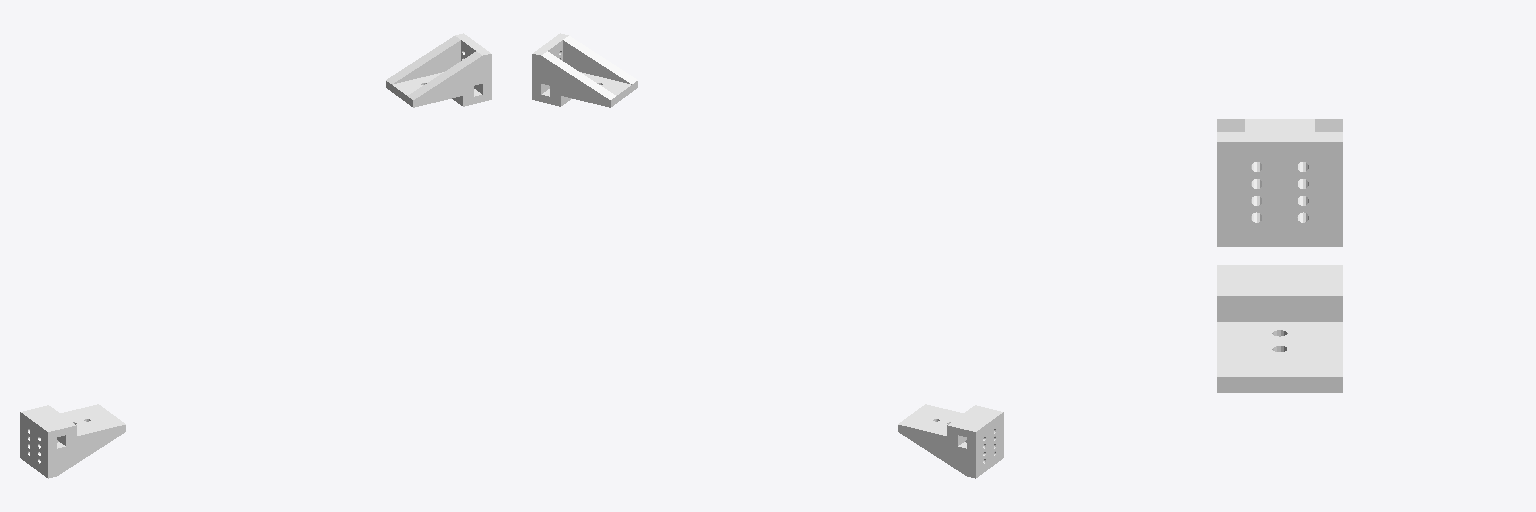
robot.urdf — ur5:
<?xml version="1.0" ?>
<!-- =================================================================================== -->
<!-- |    This document was autogenerated by xacro from ur5_robot.urdf.xacro           | -->
<!-- |    EDITING THIS FILE BY HAND IS NOT RECOMMENDED                                 | -->
<!-- =================================================================================== -->
<robot name="ur5" xmlns:xacro="http://ros.org/wiki/xacro">
  <!-- measured from model -->
  <!--property name="shoulder_height" value="0.089159" /-->
  <!--property name="shoulder_offset" value="0.13585" /-->
  <!-- shoulder_offset - elbow_offset + wrist_1_length = 0.10915 -->
  <!--property name="upper_arm_length" value="0.42500" /-->
  <!--property name="elbow_offset" value="0.1197" /-->
  <!-- CAD measured -->
  <!--property name="forearm_length" value="0.39225" /-->
  <!--property name="wrist_1_length" value="0.093" /-->
  <!-- CAD measured -->
  <!--property name="wrist_2_length" value="0.09465" /-->
  <!-- In CAD this distance is 0.930, but in the spec it is 0.09465 -->
  <!--property name="wrist_3_length" value="0.0823" /-->
  <!-- manually measured -->
  <!-- Arm Links -->
  <link name="base_link">
    <visual name="base_link_visual">
      <geometry>
        <mesh filename="meshes/ur5/visual/base.dae"/>
      </geometry>
    </visual>
    <collision name="base_link_collision">
      <geometry>
        <mesh filename="meshes/ur5/collision/base.stl"/>
      </geometry>
    </collision>
  </link>

  <link name="shoulder_link">
    <visual name="shoulder_link_visual">
      <geometry>
        <mesh filename="meshes/ur5/visual/shoulder.dae"/>
      </geometry>
    </visual>
    <collision name="shoulder_link_collision">
      <geometry>
        <mesh filename="meshes/ur5/collision/shoulder.stl"/>
      </geometry>
    </collision>
  </link>

  <link name="upper_arm_link">
    <visual name="upper_arm_link_visual">
      <geometry>
        <mesh filename="meshes/ur5/visual/upperarm.dae"/>
      </geometry>
    </visual>
    <collision name="upper_arm_link_collision">
      <geometry>
        <mesh filename="meshes/ur5/collision/upperarm.stl"/>
      </geometry>
    </collision>
  </link>

  <link name="forearm_link">
    <visual name="forearm_link_visual">
      <geometry>
        <mesh filename="meshes/ur5/visual/forearm.dae"/>
      </geometry>
    </visual>
    <collision name="forearm_link_collision">
      <geometry>
        <mesh filename="meshes/ur5/collision/forearm.stl"/>
      </geometry>
    </collision>
  </link>

  <link name="wrist_1_link">
    <visual name="wrist_1_link_visual">
      <geometry>
        <mesh filename="meshes/ur5/visual/wrist1.dae"/>
      </geometry>
    </visual>
    <collision name="wrist_1_link_collision">
      <geometry>
        <mesh filename="meshes/ur5/collision/wrist1.stl"/>
      </geometry>
    </collision>
  </link>

  <link name="wrist_2_link">
    <visual name="wrist_2_link_visual">
      <geometry>
        <mesh filename="meshes/ur5/visual/wrist2.dae"/>
      </geometry>
    </visual>
    <collision name="wrist_2_link_collision">
      <geometry>
        <mesh filename="meshes/ur5/collision/wrist2.stl"/>
      </geometry>
    </collision>
  </link>

  <link name="wrist_3_link">
    <visual name="wrist_3_link_visual">
      <geometry>
        <mesh filename="meshes/ur5/visual/wrist3.dae"/>
      </geometry>
    </visual>
    <collision name="wrist_3_link_collision">
      <geometry>
        <mesh filename="meshes/ur5/collision/wrist3.stl"/>
      </geometry>
    </collision>
  </link>


  <!-- Arm Joints -->
  <joint name="shoulder_pan_joint" type="revolute">
    <parent link="base_link"/>
    <child link="shoulder_link"/>
    <origin xyz="0 0 0.089159" rpy="0 0 0"/>
    <axis xyz="0 0 1"/>
    <limit lower="-6.28319" upper="6.28319" effort="150.0" velocity="3.15"/>
  </joint>

  <joint name="shoulder_lift_joint" type="revolute">
    <parent link="shoulder_link"/>
    <child link="upper_arm_link"/>
    <origin xyz="0 0.13585 0" rpy="0 0 0"/>
    <axis xyz="0 1 0"/>
    <limit lower="-6.28319" upper="6.28319" effort="150.0" velocity="3.15"/>
  </joint>

  <joint name="elbow_joint" type="revolute">
    <parent link="upper_arm_link"/>
    <child link="forearm_link"/>
    <origin xyz="0 -0.1197 0.425" rpy="0 0 0"/>
    <axis xyz="0 1 0"/>
    <limit lower="-6.28319" upper="6.28319" effort="150.0" velocity="3.15"/>
  </joint>

  <joint name="wrist_1_joint" type="revolute">
    <parent link="forearm_link"/>
    <child link="wrist_1_link"/>
    <origin xyz="0 0 0.39225" rpy="0 0 0"/>
    <axis xyz="0 1 0"/>
    <limit lower="-6.28319" upper="6.28319" effort="28.0" velocity="3.2"/>
  </joint>

  <joint name="wrist_2_joint" type="revolute">
    <parent link="wrist_1_link"/>
    <child link="wrist_2_link"/>
    <origin xyz="0 0.093 0" rpy="0 0 0"/>
    <axis xyz="0 0 1"/>
    <limit lower="-6.28319" upper="6.28319" effort="28.0" velocity="3.2"/>
  </joint>

  <joint name="wrist_3_joint" type="revolute">
    <parent link="wrist_2_link"/>
    <child link="wrist_3_link"/>
    <origin xyz="0 0 0.09465" rpy="0 0 0"/>
    <axis xyz="0 1 0"/>
    <limit lower="-6.28319" upper="6.28319" effort="28.0" velocity="3.2"/>
  </joint>


  <!-- Arm-Hand Fixed Joint -->

  <joint name="ee_fixed_joint" type="fixed"> 
    <parent link="wrist_3_link"/>
    <child link="ee_link"/>
    <axis xyz="0 0 1"/>
    <origin rpy="0 0 3.141592653589793" xyz="0.0 0.0823 0.0"/> 
  </joint>

  <link name="ee_link">
    <inertial>
      <origin xyz="8.625E-08 -4.6583E-06 0.03145" rpy="0 0 0" />
      <mass value="0.22652" />
      <inertia ixx="0.00020005" ixy="-4.2442E-10" ixz="-2.9069E-10" iyy="0.00017832" iyz="-3.4402E-08" izz="0.00013478" />
    </inertial>
    <visual>
      <origin xyz="0 0 0" rpy="0 0 0" />
      <geometry>
        <mesh filename="meshes/robotiq_2f_140/visual/robotiq_arg2f_base_link.stl" />
      </geometry>
      <material name="">
        <color rgba="0.9 0.1 0.1 1" />
      </material>
    </visual>
    <collision>
      <origin xyz="0.0 0.0 0.0" rpy="1.57079632678995 0 0" />
      <geometry>
        <mesh filename="meshes/robotiq_2f_140/collision/robotiq_arg2f_base_link.stl" />
      </geometry>
    </collision>
  </link>

  <link name="left_inner_knuckle">
    <inertial>
      <origin xyz="0.000123011831763771 0.0507850843201817 0.00103968640075166" rpy="0 0 0" />
      <mass value="0.0271177346495152" />
      <inertia
          ixx="2.61910379223783E-05"
          ixy="-2.43616858946494E-07"
          ixz="-6.37789906117123E-09"
          iyy="2.8270243746167E-06"
          iyz="-5.37200748039765E-07"
          izz="2.83695868220296E-05" />
    </inertial>
    <visual>
      <origin xyz="0 0 0" rpy="0 0 0" />
      <geometry>
        <mesh filename="meshes/robotiq_2f_140/visual/robotiq_arg2f_140_inner_knuckle.stl" />
      </geometry>
      <material name="">
        <color rgba="0.1 0.1 0.1 1" />
      </material>
    </visual>
    <collision>
      <origin xyz="0 0 -0.025" rpy="1.57079632678995 0 0" />
      <geometry>
        <mesh filename="meshes/robotiq_2f_140/collision/robotiq_arg2f_140_inner_knuckle.stl" />
      </geometry>
    </collision>
  </link> 

  <link name="right_inner_knuckle">
    <inertial>
      <origin xyz="0.000123011831763771 0.0507850843201817 0.00103968640075166" rpy="0 0 0" />
      <mass value="0.0271177346495152" />
      <inertia
          ixx="2.61910379223783E-05"
          ixy="-2.43616858946494E-07"
          ixz="-6.37789906117123E-09"
          iyy="2.8270243746167E-06"
          iyz="-5.37200748039765E-07"
          izz="2.83695868220296E-05" />
    </inertial>
    <visual>
      <origin xyz="0 0 0" rpy="0 0 0" />
      <geometry>
        <mesh filename="meshes/robotiq_2f_140/visual/robotiq_arg2f_140_inner_knuckle.stl" />
      </geometry>
      <material name="">
        <color rgba="0.1 0.1 0.1 1" />
      </material>
    </visual>
    <collision>
      <origin xyz="0 0 -0.025" rpy="1.57079632678995 0 0" />
      <geometry>
        <mesh filename="meshes/robotiq_2f_140/collision/robotiq_arg2f_140_inner_knuckle.stl" />
      </geometry>
    </collision>
  </link>

  <joint name="left_inner_knuckle_joint" type="revolute">
    <origin xyz="0 -0.06142 -0.0127" rpy="2.2957963267948965 0 0" />
    <parent link="ee_link" />
    <child link="left_inner_knuckle" />
    <axis xyz="1 0 0" />
    <limit lower="-0.5757" upper="0.5757" velocity="2.0" effort="1000" />
    <mimic joint="finger_joint" multiplier="-1" offset="0" />
  </joint>

  <joint name="right_inner_knuckle_joint" type="revolute">
    <origin xyz="0 -0.06142 0.0127" rpy="-2.2957963267948965 3.141592653589793 -3.141592653589793" />
    <parent link="ee_link" />
    <child link="right_inner_knuckle" />
    <axis xyz="1 0 0" />
    <limit lower="-0.5757" upper="0.5757" velocity="2.0" effort="1000" />
    <mimic joint="finger_joint" multiplier="1" offset="0" />
  </joint> 

  <link name="left_outer_knuckle">
    <inertial>
      <origin xyz="-0.000200000000003065 0.0199435877845359 0.0292245259211331" rpy="0 0 0" />
      <mass value="0.00853198276973456" />
      <inertia
          ixx="2.89328108496468E-06"
          ixy="-1.57935047237397E-19"
          ixz="-1.93980378593255E-19"
          iyy="1.86719750325683E-06"
          iyz="-1.21858577871576E-06"
          izz="1.21905238907251E-06" />
    </inertial>
    <visual>
      <origin xyz="0 0 0" rpy="0 0 0" />
      <geometry>
        <mesh filename="meshes/robotiq_2f_140/visual/robotiq_arg2f_140_outer_knuckle.stl" />
      </geometry>
      <material name="">
        <color rgba="0.792156862745098 0.819607843137255 0.933333333333333 1" />
      </material>
    </visual>
    <collision>
      <origin xyz="0 0 0" rpy="1.57079632678995 0 0" />
      <geometry>
        <mesh filename="meshes/robotiq_2f_140/collision/robotiq_arg2f_140_outer_knuckle.stl" />
      </geometry>
    </collision>
  </link>

  <link name="right_outer_knuckle">
    <inertial>
      <origin xyz="-0.000200000000003065 0.0199435877845359 0.0292245259211331" rpy="0 0 0" />
      <mass value="0.00853198276973456" />
      <inertia
          ixx="2.89328108496468E-06"
          ixy="-1.57935047237397E-19"
          ixz="-1.93980378593255E-19"
          iyy="1.86719750325683E-06"
          iyz="-1.21858577871576E-06"
          izz="1.21905238907251E-06" />
    </inertial>
    <visual>
      <origin xyz="0 0 0" rpy="0 0 0" />
      <geometry>
        <mesh filename="meshes/robotiq_2f_140/visual/robotiq_arg2f_140_outer_knuckle.stl" />
      </geometry>
      <material name="">
        <color rgba="0.792156862745098 0.819607843137255 0.933333333333333 1" />
      </material>
    </visual>
    <collision>
      <origin xyz="0 0 0" rpy="1.57079632678995 0 0" />
      <geometry>
        <mesh filename="meshes/robotiq_2f_140/collision/robotiq_arg2f_140_outer_knuckle.stl" />
      </geometry>
    </collision>
  </link>

  <joint name="finger_joint" type="revolute">
    <origin xyz="0 -0.054905 -0.030601" rpy="2.2957963267948965 0 0" />
    <parent link="ee_link" />
    <child link="left_outer_knuckle" />
    <axis xyz="-1 0 0" />
    <limit lower="-0.725" upper="0.725" velocity="2.0" effort="1000" />
  </joint>

  <joint name="right_outer_knuckle_joint" type="revolute">
    <origin xyz="0 -0.054905 0.030601" rpy="-0.8457 0 -3.141592653589793" />
    <parent link="ee_link" />
    <child link="right_outer_knuckle" />
    <axis xyz="1 0 0" />
    <limit lower="-0.725" upper="0.725" velocity="2.0" effort="1000" />
    <mimic joint="finger_joint" multiplier="-1" offset="0" />
  </joint>

  <link name="left_outer_finger">
    <inertial>
      <origin xyz="0.00030115855001899 0.0373907951953854 -0.0208027427000385" rpy="0 0 0" />
      <mass value="0.022614240507152" />
      <inertia
          ixx="1.52518312458174E-05"
          ixy="9.76583423954399E-10"
          ixz="-5.43838577022588E-10"
          iyy="6.17694243867776E-06"
          iyz="6.78636130740228E-06"
          izz="1.16494917907219E-05" />
    </inertial>
    <visual>
      <origin xyz="0 0 0" rpy="0 0 0" />
      <geometry>
        <mesh filename="meshes/robotiq_2f_140/visual/robotiq_arg2f_140_outer_finger.stl" />
      </geometry>
      <material name="">
        <color rgba="0.1 0.1 0.1 1" />
      </material>
    </visual>
    <collision>
      <origin xyz="0 0 0" rpy="1.57079632678995 0 0" />
      <geometry>
        <mesh filename="meshes/robotiq_2f_140/collision/robotiq_arg2f_140_outer_finger.stl" />
      </geometry>
    </collision>
  </link>

  <link name="right_outer_finger">
    <inertial>
      <origin xyz="0.00030115855001899 0.0373907951953854 -0.0208027427000385" rpy="0 0 0" />
      <mass value="0.022614240507152" />
      <inertia
          ixx="1.52518312458174E-05"
          ixy="9.76583423954399E-10"
          ixz="-5.43838577022588E-10"
          iyy="6.17694243867776E-06"
          iyz="6.78636130740228E-06"
          izz="1.16494917907219E-05" />
    </inertial>
    <visual>
      <origin xyz="0 0 0" rpy="0 0 0" />
      <geometry>
        <mesh filename="meshes/robotiq_2f_140/visual/robotiq_arg2f_140_outer_finger.stl" />
      </geometry>
      <material name="">
        <color rgba="0.1 0.1 0.1 1" />
      </material>
    </visual>
    <collision>
      <origin xyz="0 0 0" rpy="1.57079632678995 0 0" />
      <geometry>
        <mesh filename="meshes/robotiq_2f_140/collision/robotiq_arg2f_140_outer_finger.stl" />
      </geometry>
    </collision>
  </link>

  <joint name="left_outer_finger_joint" type="fixed">
    <origin xyz="0 -0.0260018192872234 0.01821998610742" rpy="0 0 0" />
    <parent link="left_outer_knuckle" />
    <child link="left_outer_finger" />
    <axis xyz="1 0 0" />
  </joint>

  <joint name="right_outer_finger_joint" type="fixed">
    <origin xyz="0 -0.0260018192872234 0.01821998610742" rpy="0 0 0" />
    <parent link="right_outer_knuckle" />
    <child link="right_outer_finger" />
    <axis xyz="1 0 0" />
  </joint>

  <link name="left_inner_finger">
    <inertial>
      <origin xyz="0.000299999999999317 0.0160078233491243 -0.0136945669206257" rpy="0 0 0" />
      <mass value="0.0104003125914103" />
      <inertia
          ixx="2.71909453810972E-06"
          ixy="1.35402465472579E-21"
          ixz="-7.1817349065269E-22"
          iyy="7.69100314106116E-07"
          iyz="6.74715432769696E-07"
          izz="2.30315190420171E-06" />
    </inertial>
    <visual>
      <origin xyz="0 0 0" rpy="0 0 0" />
      <geometry>
        <mesh filename="meshes/robotiq_2f_140/visual/robotiq_arg2f_140_inner_finger.stl" />
      </geometry>
      <material name="">
        <color rgba="0.1 0.1 0.1 1" />
      </material>
    </visual>
    <collision>
      <origin xyz="0 0 0" rpy="1.57079632678995 0 0" />
      <geometry>
        <mesh filename="meshes/robotiq_2f_140/collision/robotiq_arg2f_140_inner_finger.stl" />
      </geometry>
    </collision>
  </link>

  <link name="right_inner_finger">
    <inertial>
      <origin xyz="0.000299999999999317 0.0160078233491243 -0.0136945669206257" rpy="0 0 0" />
      <mass value="0.0104003125914103" />
      <inertia
          ixx="2.71909453810972E-06"
          ixy="1.35402465472579E-21"
          ixz="-7.1817349065269E-22"
          iyy="7.69100314106116E-07"
          iyz="6.74715432769696E-07"
          izz="2.30315190420171E-06" />
    </inertial>
    <visual>
      <origin xyz="0 0 0" rpy="0 0 0" />
      <geometry>
        <mesh filename="meshes/robotiq_2f_140/visual/robotiq_arg2f_140_inner_finger.stl" />
      </geometry>
      <material name="">
        <color rgba="0.1 0.1 0.1 1" />
      </material>
    </visual>
    <collision>
      <origin xyz="0 0 0" rpy="1.57079632678995 0 0" />
      <geometry>
        <mesh filename="meshes/robotiq_2f_140/collision/robotiq_arg2f_140_inner_finger.stl" />
      </geometry>
    </collision>
  </link>

  <joint name="left_inner_finger_joint" type="revolute">
    <origin xyz="0 0.0282203446692936 0.0817554015893473" rpy="-0.725 0 0" />
    <parent link="left_outer_finger" />
    <child link="left_inner_finger" />
    <axis xyz="1 0 0" />
    <limit lower="-0.5757" upper="0.5757" velocity="2.0" effort="1000" />
    <mimic joint="finger_joint" multiplier="1" offset="0" />
  </joint>

  <joint name="right_inner_finger_joint" type="revolute">
    <origin xyz="0 0.0282203446692936 0.0817554015893473" rpy="-0.725 0 0" />
    <parent link="right_outer_finger" />
    <child link="right_inner_finger" />
    <axis xyz="1 0 0" />
    <limit lower="-0.5757" upper="0.5757" velocity="2.0" effort="1000" />
    <mimic joint="finger_joint" multiplier="1" offset="0" />
  </joint>

  <link
    name="left_digit_connector">
    <inertial>
      <origin
        xyz="0.00313995984923009 0.109183754363849 0.000124171196532337"
        rpy="0 0 0" />
      <mass
        value="0.0118042265711554" />
      <inertia
        ixx="2.64971572788135E-06"
        ixy="-1.47965866833262E-07"
        ixz="4.22916887794277E-23"
        iyy="1.33597572121791E-06"
        iyz="-2.81424959240311E-22"
        izz="2.16082196623806E-06" />
    </inertial>
    <visual>
      <origin
        xyz="0 0 0"
        rpy="0 0 0" />
      <geometry>
        <mesh
          filename="meshes/digit_robotiq_connector/visual/digit_robotiq.STL" />
      </geometry>
      <material
        name="">
        <color
          rgba="1 1 1 1" />
      </material>
    </visual>
    <collision>
      <origin
        xyz="0 0 0"
        rpy="1.5707963267899 0 0" />
      <geometry>
        <mesh       
          filename="meshes/digit_robotiq_connector/collision/digit_robotiq.STL" />
      </geometry>
    </collision>
  </link>

  <link
    name="right_digit_connector">
    <inertial>
      <origin
        xyz="0.00313995984923009 0.109183754363849 0.000124171196532337"
        rpy="0 0 0" />
      <mass
        value="0.0118042265711554" />
      <inertia
        ixx="2.64971572788135E-06"
        ixy="-1.47965866833262E-07"
        ixz="4.22916887794277E-23"
        iyy="1.33597572121791E-06"
        iyz="-2.81424959240311E-22"
        izz="2.16082196623806E-06" />
    </inertial>
    <visual>
      <origin
        xyz="0 0 0"
        rpy="0 0 0" />
      <geometry>
        <mesh
          filename="meshes/digit_robotiq_connector/visual/digit_robotiq.STL" />
      </geometry>
      <material
        name="">
        <color
          rgba="1 1 1 1" />
      </material>
    </visual>
    <collision>
      <origin
        xyz="0 0 0"
        rpy="1.5707963267899 0 0" />
      <geometry>
        <mesh
          filename="meshes/digit_robotiq_connector/collision/digit_robotiq.STL" />
      </geometry>
    </collision>
  </link>

  <joint name="left_digit_connector" type="fixed">
    <origin xyz="0 0.163 -0.0705" rpy="-1.5707 0 1.5707" />
    <parent link="left_inner_finger" />
    <child link="left_digit_connector" />
    <axis xyz="0 0 1" />
  </joint>
  <joint name="right_digit_connector" type="fixed">
    <origin xyz="0 0.163 -0.0705" rpy="-1.5707 0 1.5707" />
    <parent link="right_inner_finger" />
    <child link="right_digit_connector" />
    <axis xyz="0 0 1" />
  </joint>

</robot>

--- Facts derived from the render (not from the file) ---
Views: 3 orthographic renders of the robot side by side, from view 1: azimuth 30°, elevation 25°; view 2: azimuth 150°, elevation 25°; view 3: azimuth 270°, elevation 25°.
Robot: ur5 — 18 links, 17 joints (12 revolute, 5 fixed); root link base_link; default pose: every joint at zero.
Visible links, largest first — view 1: right_digit_connector, left_digit_connector; view 2: left_digit_connector, right_digit_connector; view 3: left_digit_connector, right_digit_connector.
Boxes of the visible links, bbox=[...] form: right_digit_connector: bbox=[20, 404, 125, 478]; left_digit_connector: bbox=[386, 33, 491, 107]; left_digit_connector: bbox=[532, 33, 637, 107]; right_digit_connector: bbox=[898, 404, 1003, 478]; left_digit_connector: bbox=[1217, 119, 1342, 246]; right_digit_connector: bbox=[1217, 265, 1342, 392].
Bounding box of the posed robot: 0.2497 × 0.027 × 0.1706 m (x, y, z).
2 mesh visuals loaded from 13 distinct referenced files (1 binary STL); not drawn: 16 (reference not matched to a file when rendering).